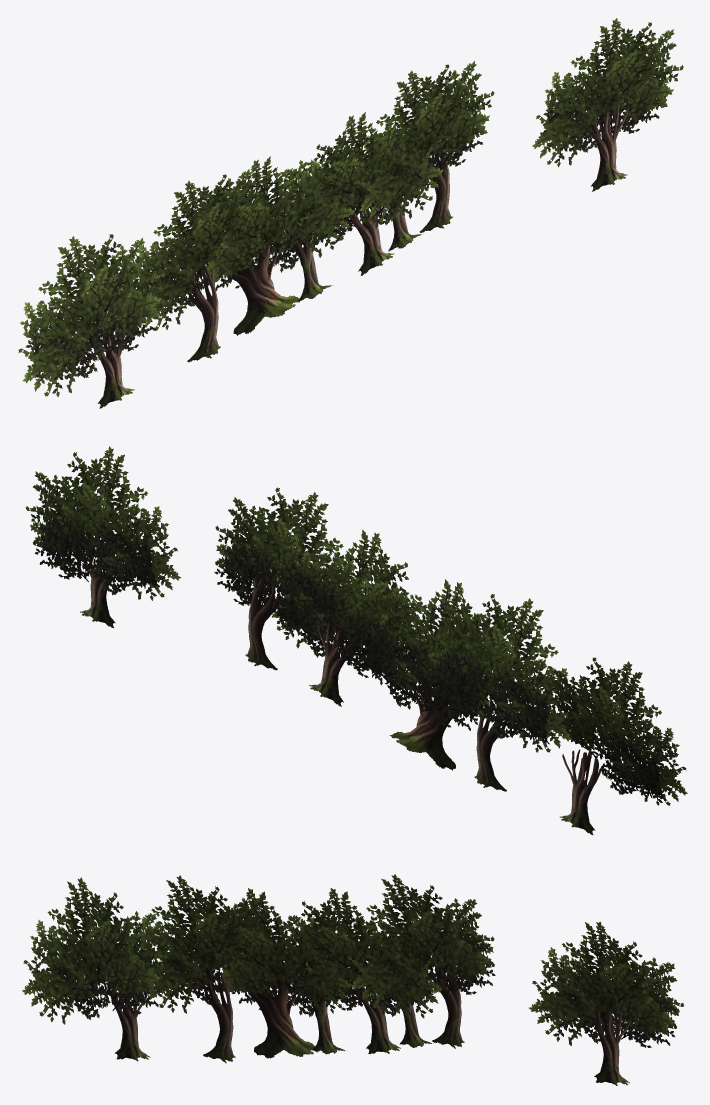
File: Castle Tower_Trees.FBX
3 views of the same model, one above another, from view 1: azimuth 30°, elevation 25°; view 2: azimuth 150°, elevation 25°; view 3: azimuth 330°, elevation 25° (orthographic). The views are drawn at different scales.
Visible parts, largest first — view 1: Trees; view 2: Trees; view 3: Trees.
Part boxes in pixels (x1=…): Trees: x1=18, y1=18, x2=683, y2=408; Trees: x1=25, y1=446, x2=687, y2=834; Trees: x1=22, y1=874, x2=683, y2=1085.
Bounding box in the file's own units: 3587 × 191 × 1398.
